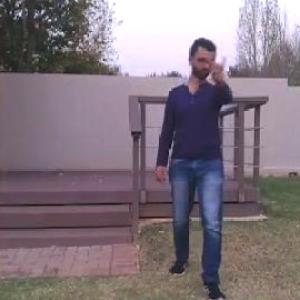takeoff-hand: (204, 46, 232, 86)
